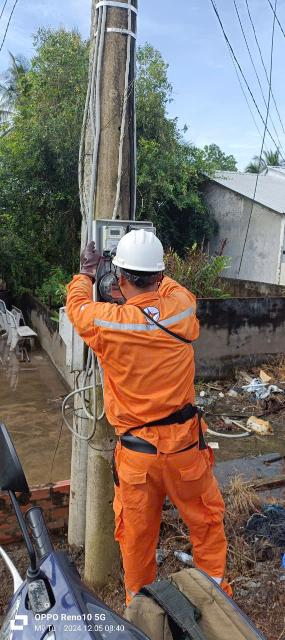gloves: (74, 245, 109, 285)
harness: (105, 399, 231, 442)
helmet: (106, 226, 177, 277)
